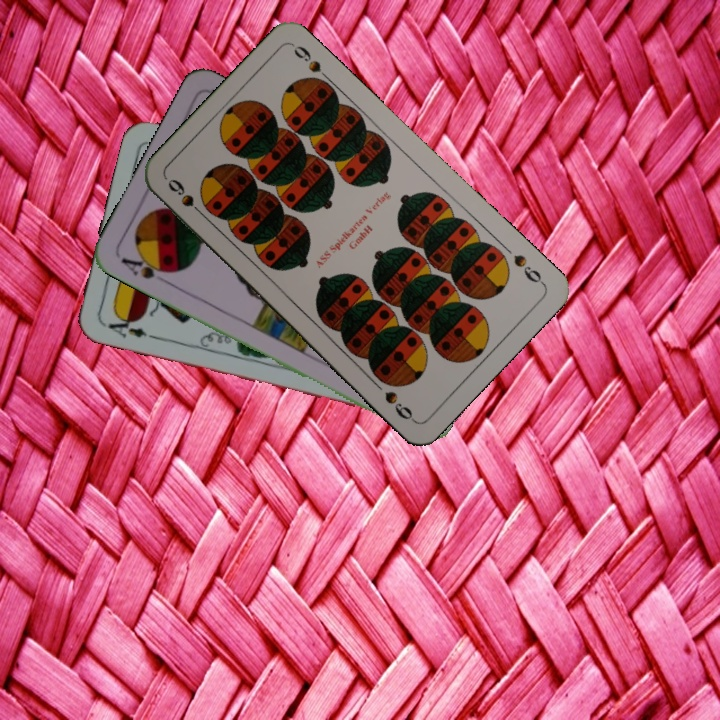EA: (100, 311, 158, 342)
S9: (163, 175, 210, 222), (509, 250, 547, 288)
SA: (117, 250, 175, 285)
